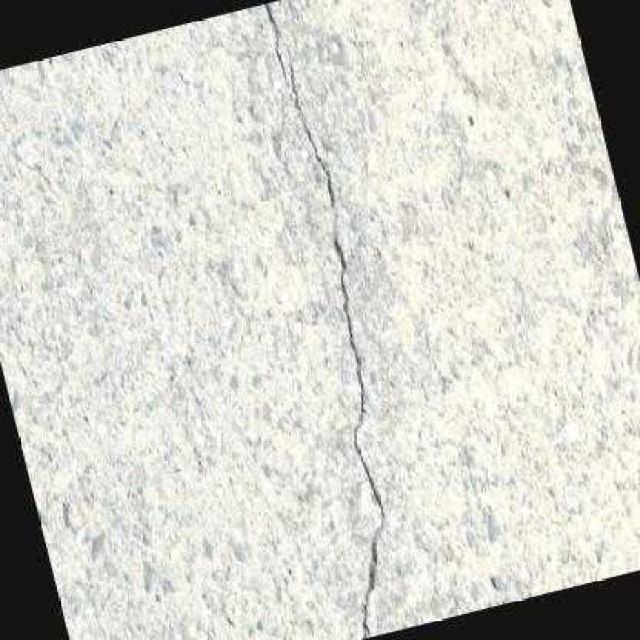D00: (334, 235, 386, 639), (291, 57, 334, 207), (264, 3, 287, 76)
